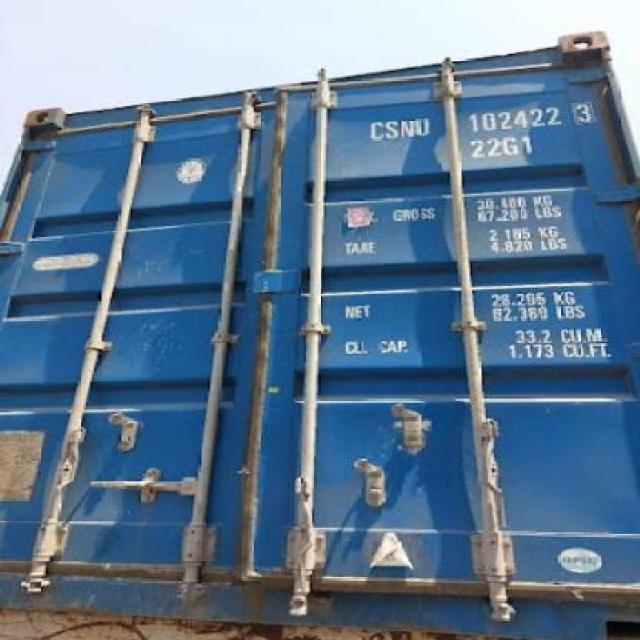ISO: (471, 136, 534, 164)
container_number: (359, 103, 595, 142)
